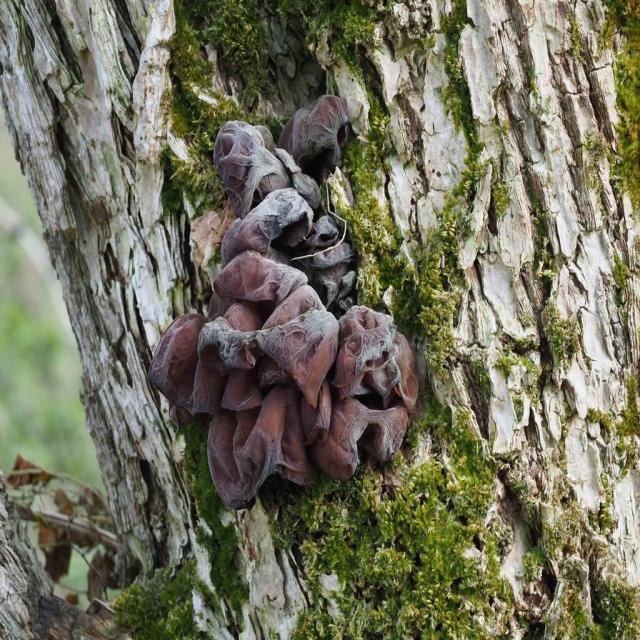Matang: (154, 76, 423, 491)
